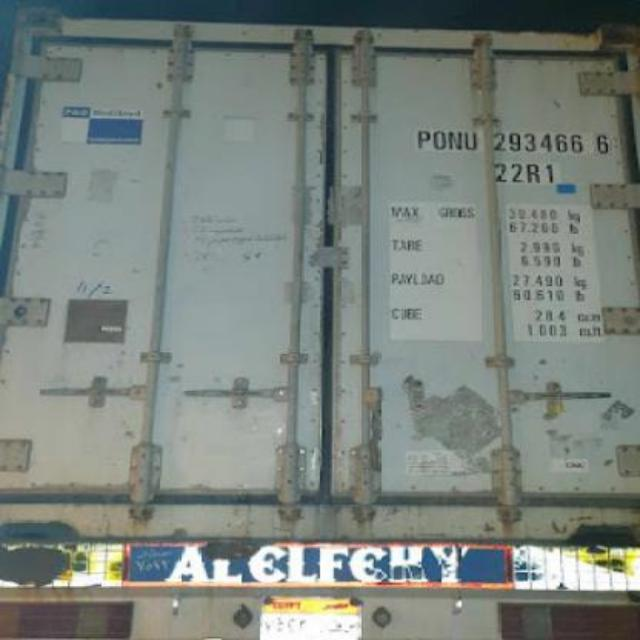2: (494, 129, 506, 153)
3: (522, 128, 540, 156)
4: (540, 127, 556, 159)
6: (568, 128, 584, 156), (554, 127, 568, 157), (596, 130, 612, 154)
9: (508, 128, 522, 154)
N: (448, 128, 464, 154)
O: (430, 126, 446, 156)
P: (412, 126, 430, 158)
U: (466, 127, 482, 159)
